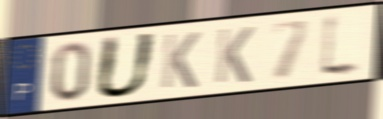0: (50, 39, 94, 105)
7: (270, 17, 310, 84)
K: (159, 30, 202, 91), (213, 25, 256, 86)
L: (317, 10, 365, 81)
U: (92, 31, 160, 101)
